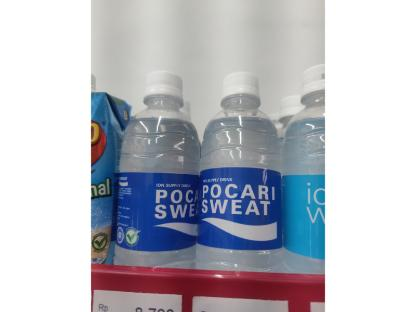Plastic Bottle: (201, 72, 283, 312), (121, 71, 200, 312)
